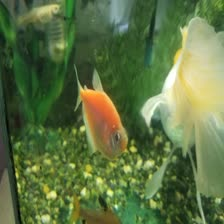Cuezo: (134, 17, 223, 198)
Plano: (65, 60, 127, 161)
